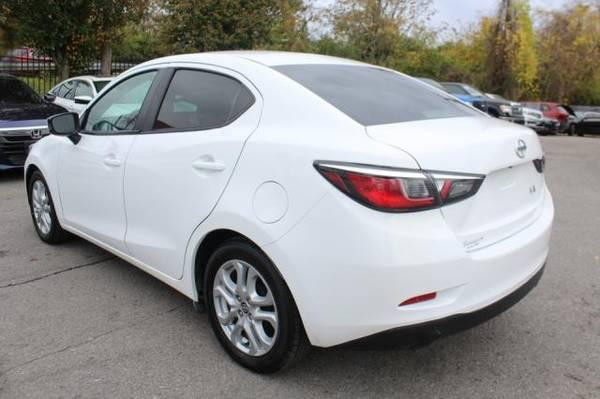Front_Fender: (22, 136, 63, 229)
Front_Left_Door: (56, 133, 140, 263)
Front_Left_Window: (72, 67, 170, 136)
Left_Taillight: (311, 159, 487, 212)
Rear_Bumper: (260, 175, 553, 343)
Rear_Fender: (218, 118, 412, 247)
Rear_Left_Door: (121, 129, 254, 304)
Rear_Left_Window: (142, 69, 258, 142)
Rear_Windshield: (272, 66, 489, 133)
Roof: (131, 50, 364, 129)
Tailgate: (363, 117, 541, 247)
Wheel: (197, 245, 302, 371), (25, 179, 70, 251)
